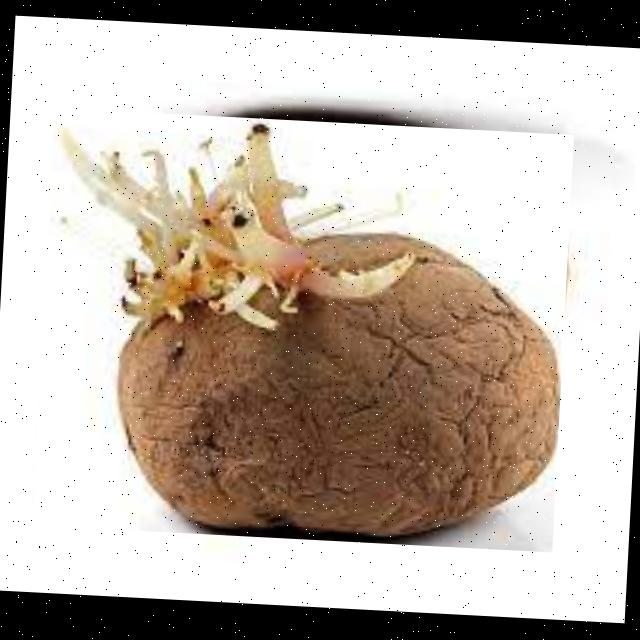Sprouted potato: (33, 108, 574, 552)
